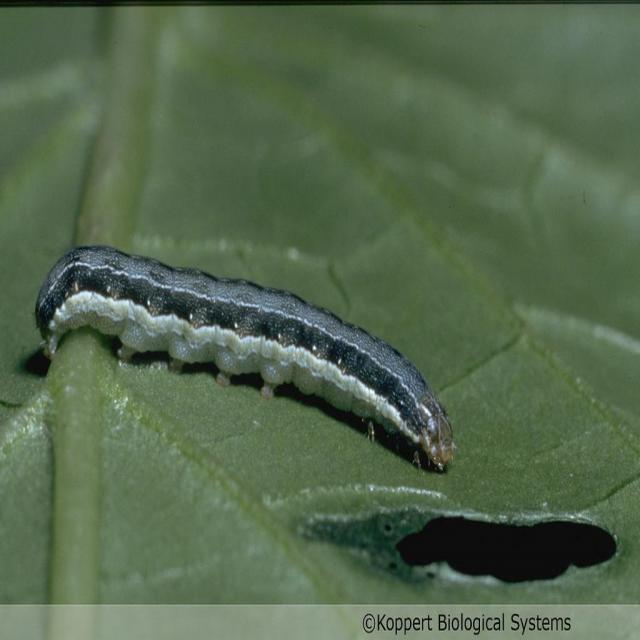BeetArmyWorm-Larva-: (29, 236, 460, 485)
